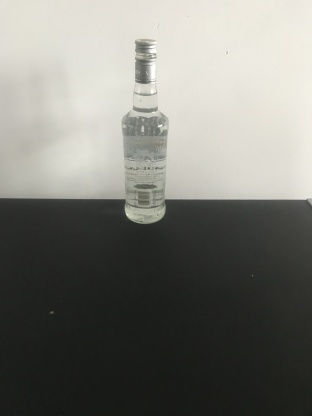nakretka: (133, 36, 158, 84)
